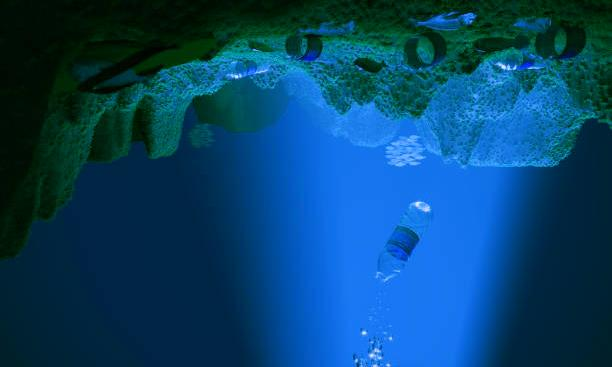Plastic: (372, 197, 447, 286), (523, 13, 595, 60), (387, 29, 471, 68), (269, 33, 350, 66), (216, 54, 277, 82), (489, 46, 558, 70)
